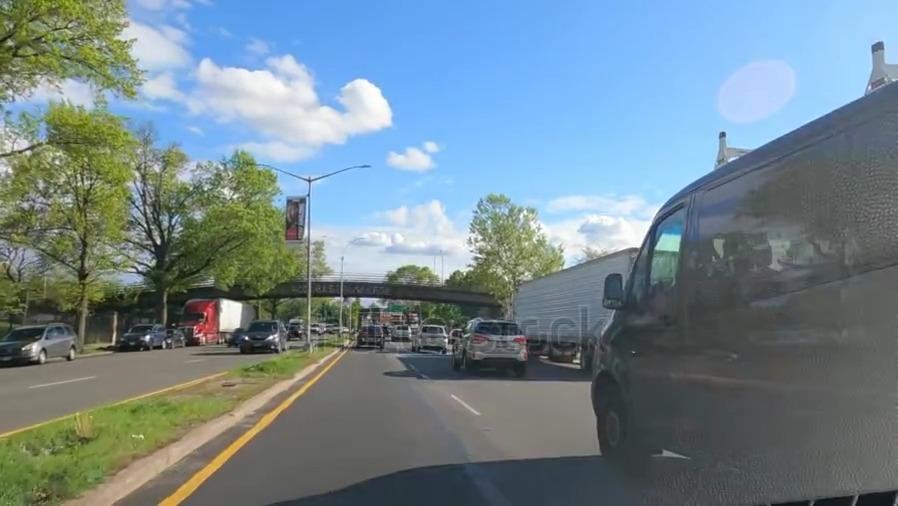car: (457, 317, 532, 378), (0, 323, 82, 370), (111, 323, 167, 350), (239, 320, 284, 351), (410, 322, 450, 353), (355, 324, 389, 349)
truck: (516, 243, 631, 349), (182, 296, 251, 342)
van: (620, 91, 895, 495)
wheel: (593, 372, 635, 466)
